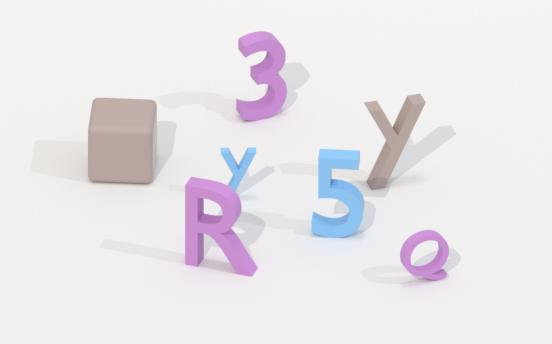3: (228, 31, 294, 121)
5: (309, 147, 370, 245)
R-hoa: (182, 179, 258, 279)
Y: (359, 95, 426, 190), (217, 146, 260, 193)
hop: (81, 94, 166, 187)
q: (395, 227, 453, 283)
